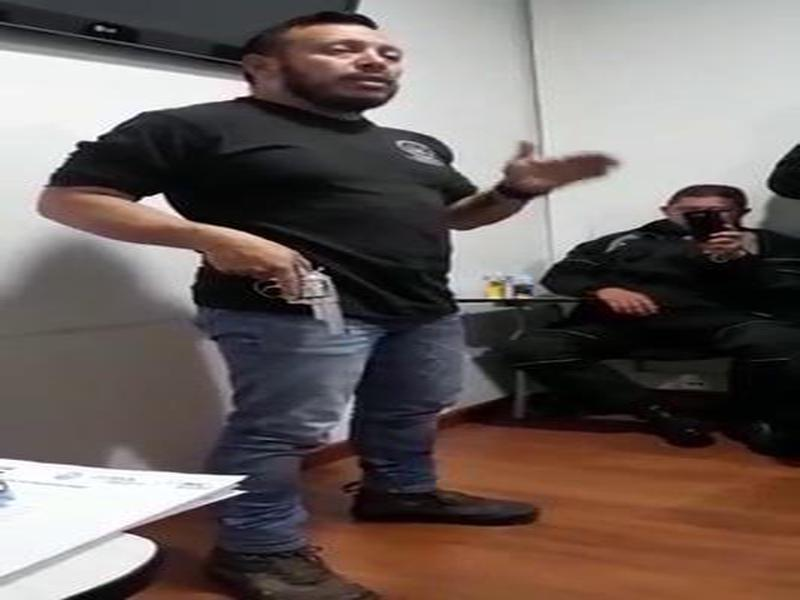Revolver: (232, 238, 368, 354)
